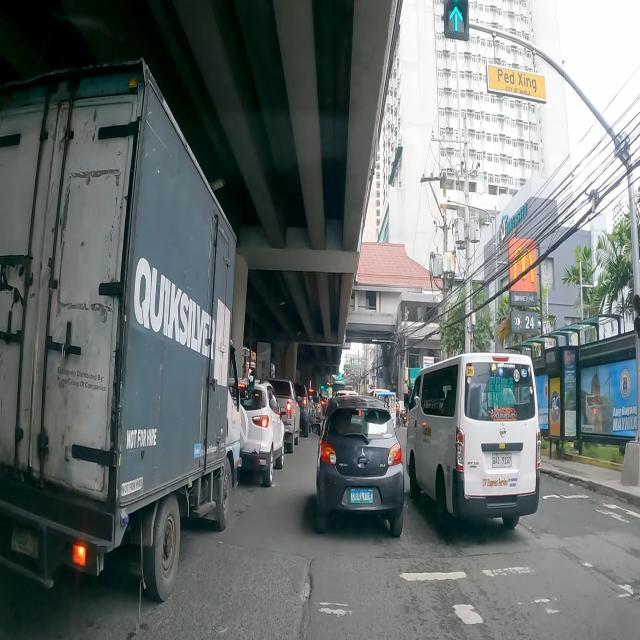bus: (332, 382, 345, 398)
car: (406, 353, 541, 529), (316, 395, 404, 537), (237, 377, 285, 486), (264, 378, 300, 454), (293, 382, 311, 436)
motorcycle: (396, 400, 400, 428)
truck: (0, 61, 241, 602)
